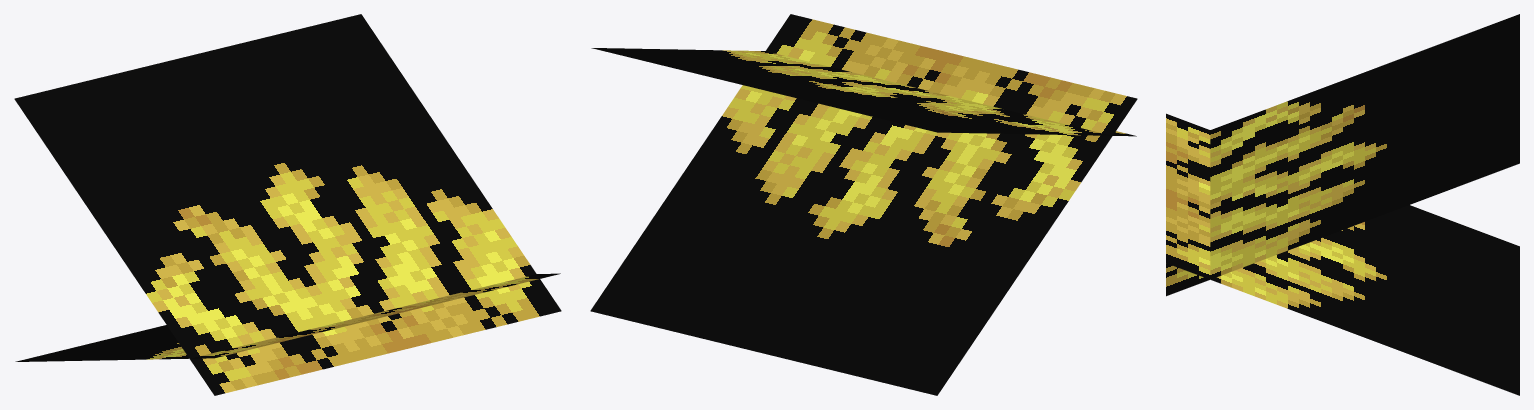
File: block_horn_coral_wall_fan.gltf
3 renders of one model, left to right at view 1: azimuth 30°, elevation 25°; view 2: azimuth 150°, elevation 25°; view 3: azimuth 270°, elevation 25°, orthographic. The views are drawn at different scales.
Visible parts, largest first — view 1: cube (×2); view 2: cube (×2); view 3: cube (×2).
Boxes of the visible parts, box(x1,y1,x2,y2) form: cube (×2): box(14, 14, 561, 395); cube (×2): box(590, 14, 1137, 395); cube (×2): box(1166, 14, 1519, 395).
Bounding box in the file's own units: 1 × 0.7249 × 1.
1 material, 1 textured.
